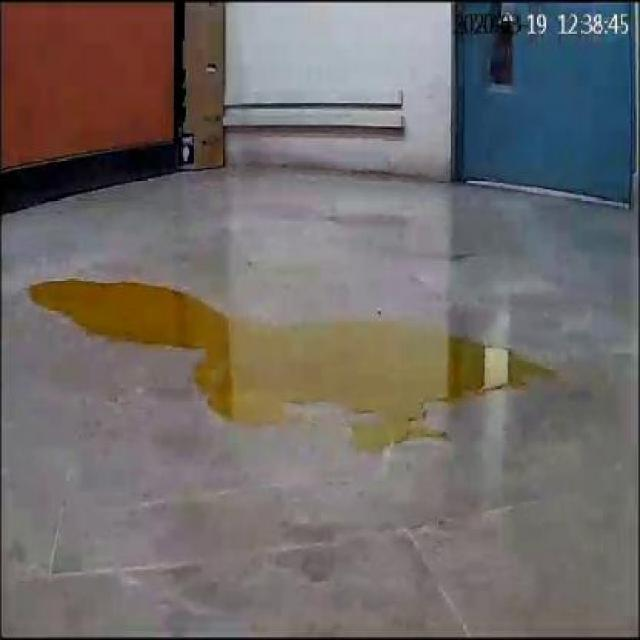spill: (29, 272, 558, 454)
